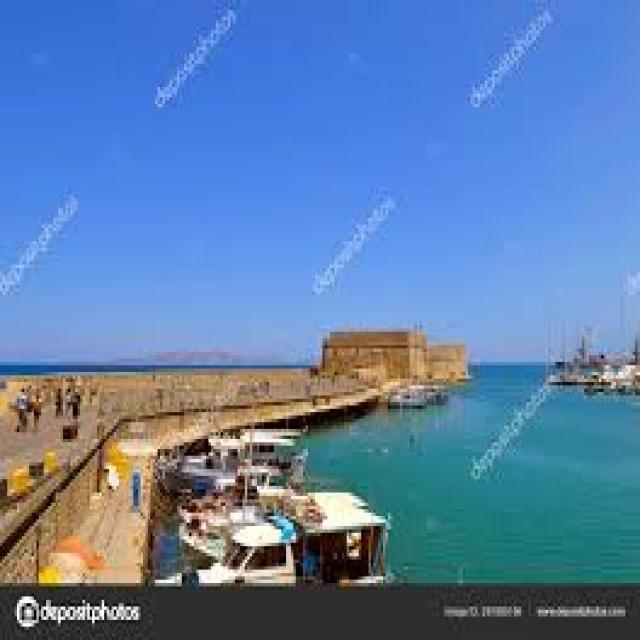Kules: (323, 329, 475, 388)
